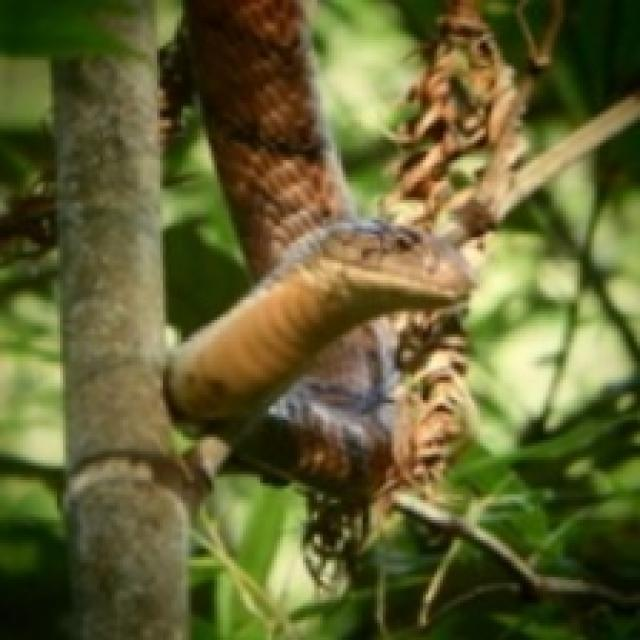king cobra: (166, 0, 511, 580), (363, 306, 431, 434)
